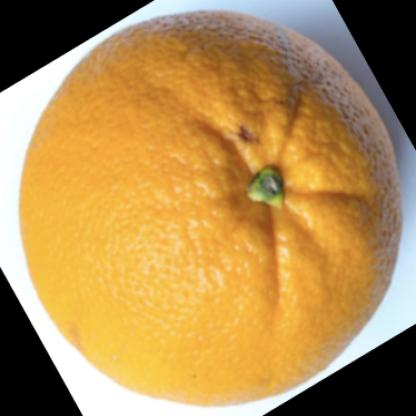fresh: (21, 11, 403, 403)
